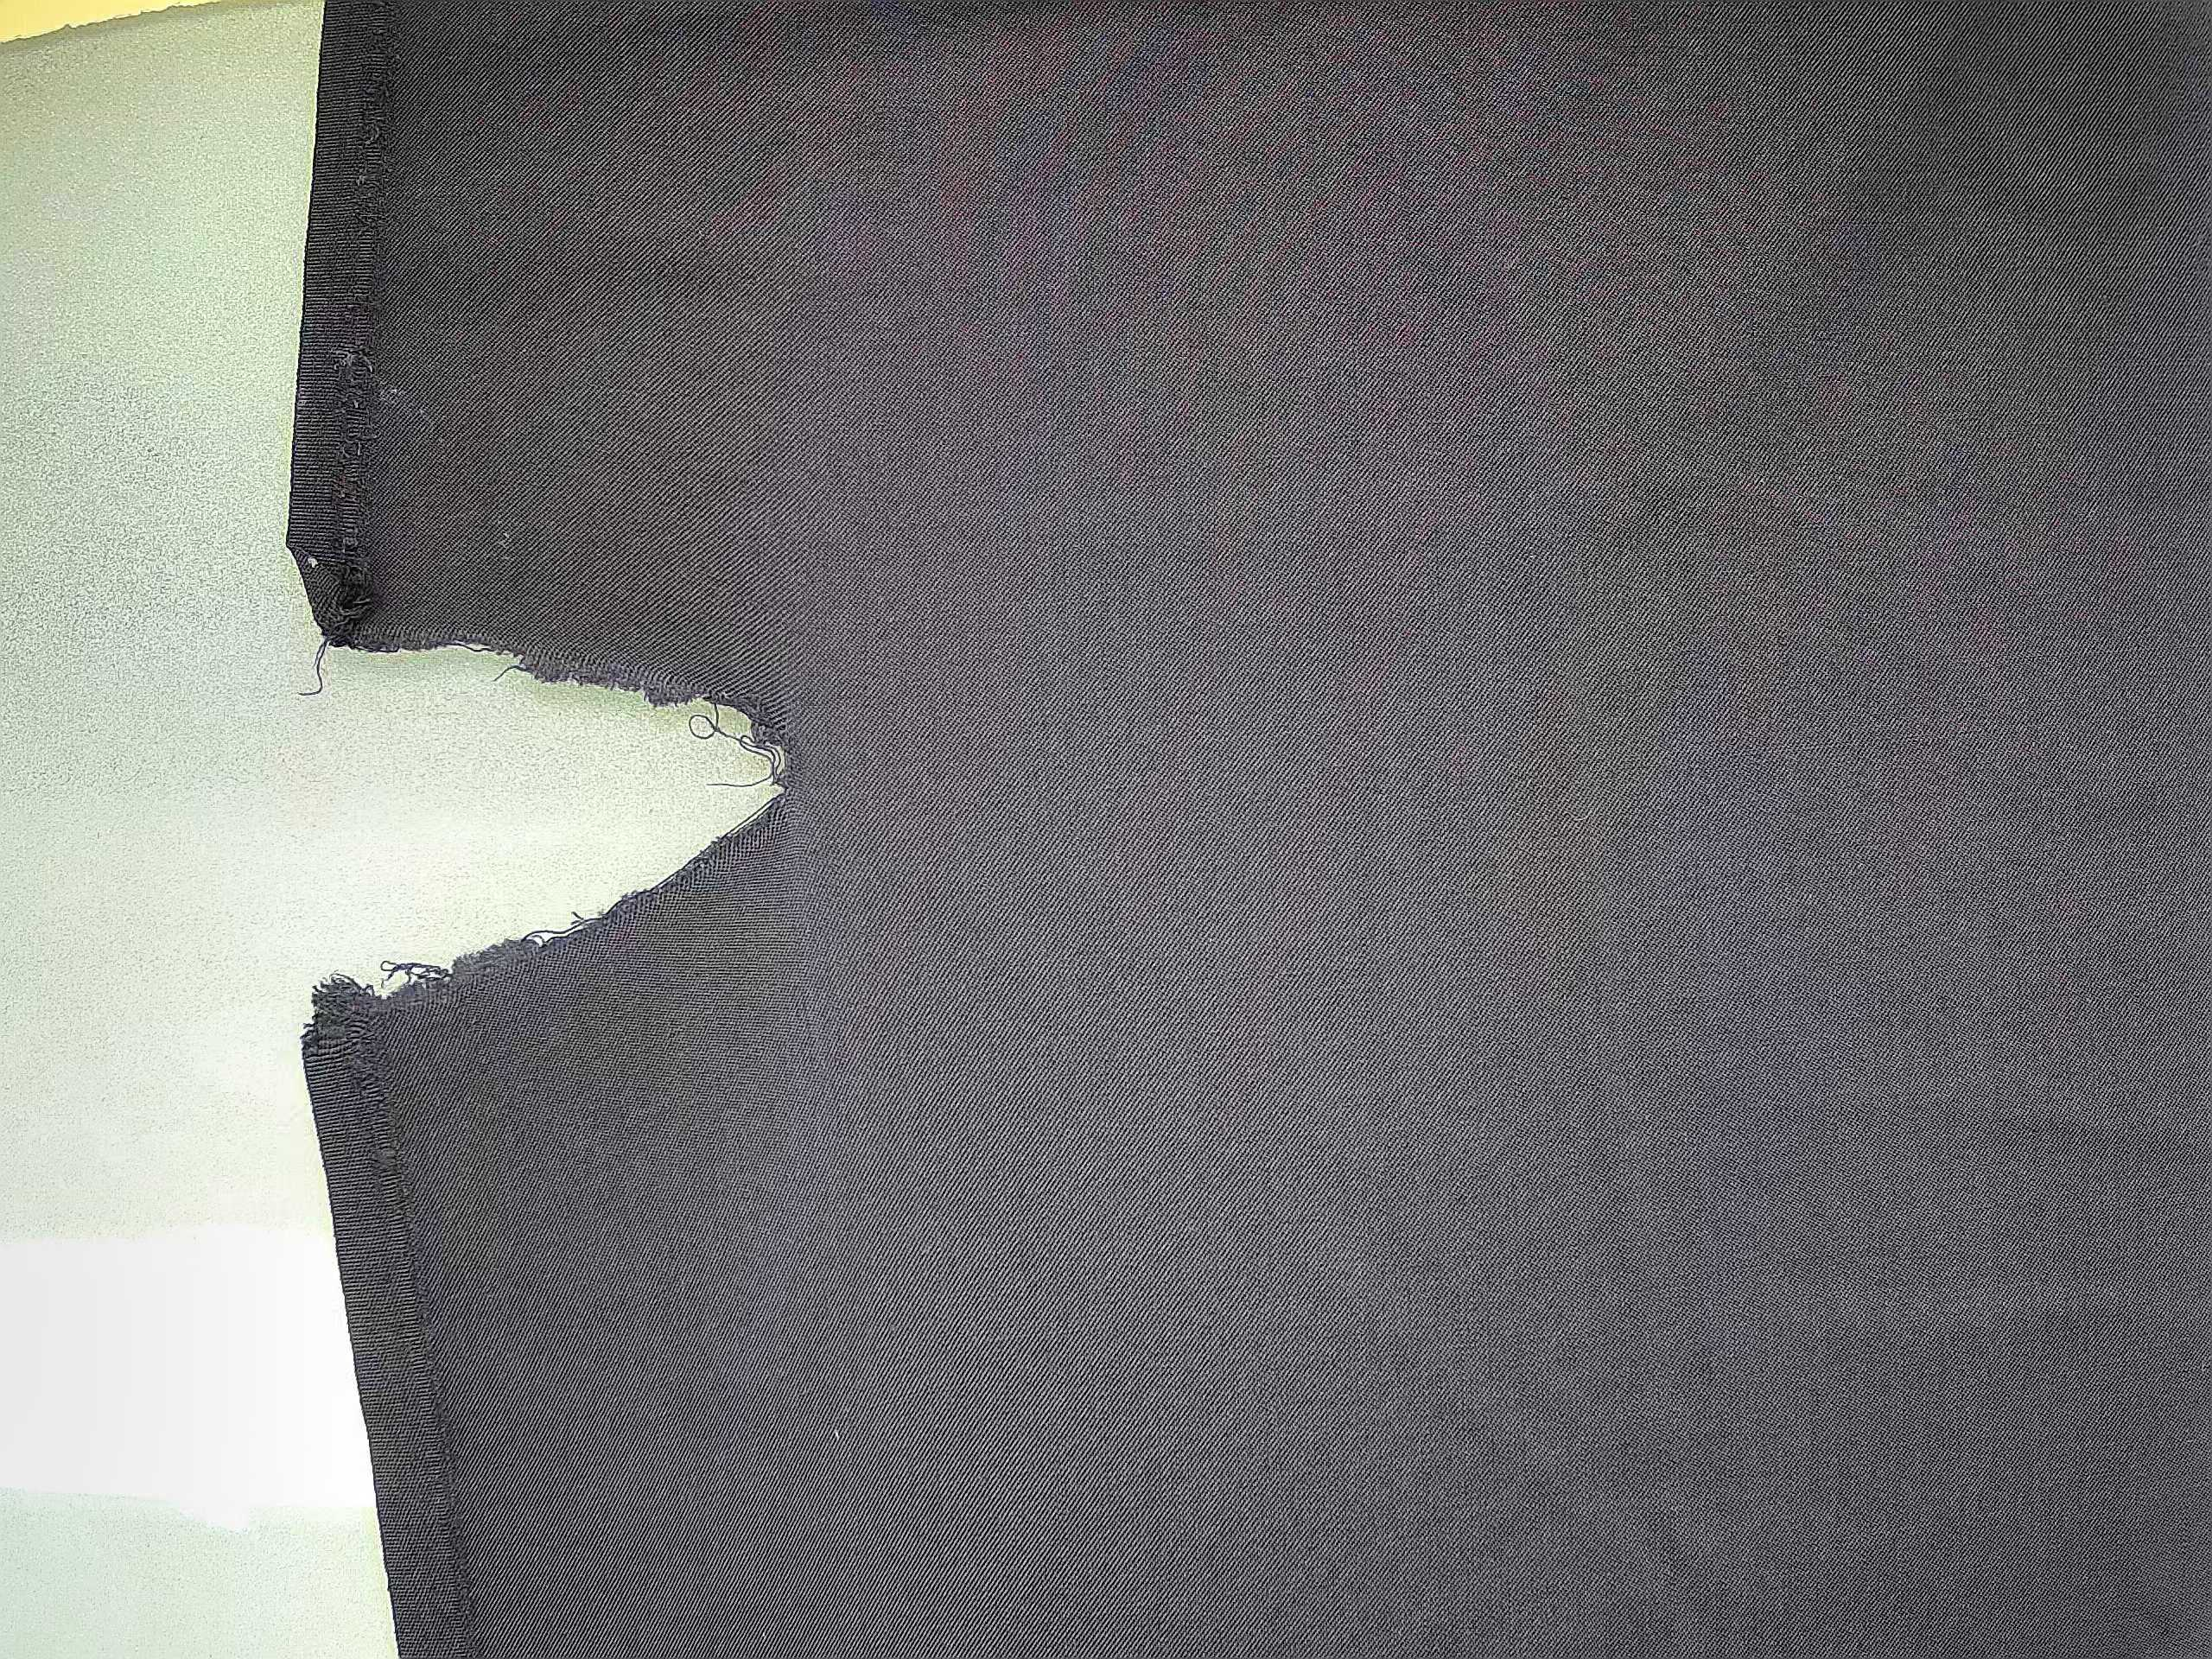others: (225, 490, 833, 1112)
